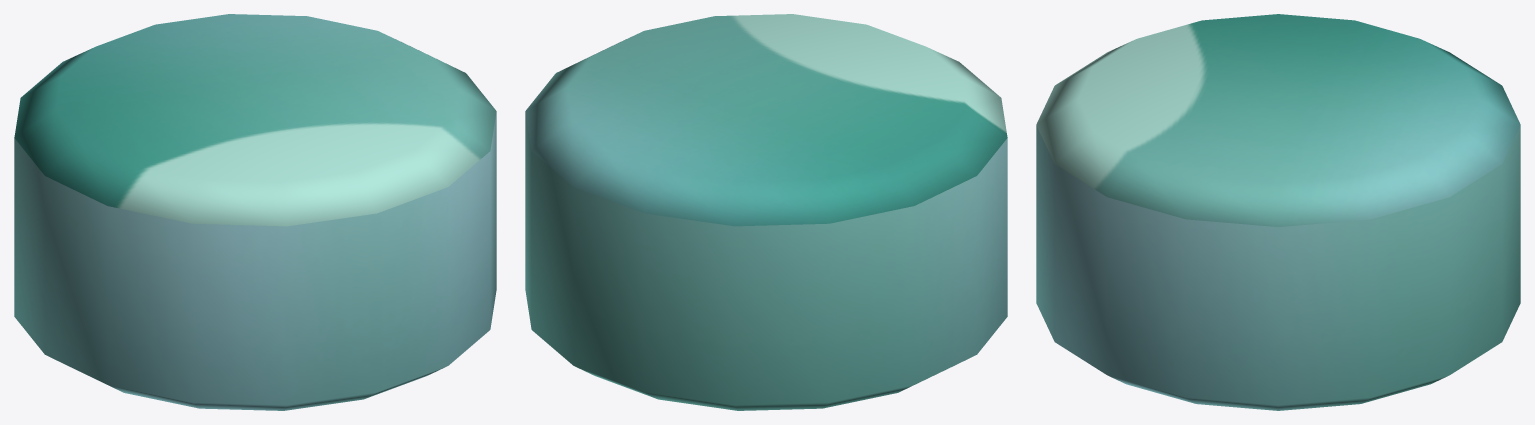
Rendered from Juice_Bottle_Cap_01.fbx.
3 renders of one model, left to right at view 1: azimuth 30°, elevation 25°; view 2: azimuth 150°, elevation 25°; view 3: azimuth 270°, elevation 25°, orthographic.
Parts seen in each view (by area): view 1: Juice_Bottle_Cap_01; view 2: Juice_Bottle_Cap_01; view 3: Juice_Bottle_Cap_01.
Boxes of the visible parts, <box> form: Juice_Bottle_Cap_01: <box>14,14,496,410</box>; Juice_Bottle_Cap_01: <box>525,14,1007,410</box>; Juice_Bottle_Cap_01: <box>1036,14,1520,410</box>.
Size of the model in its own units: 22.44 by 11.31 by 22.44.
